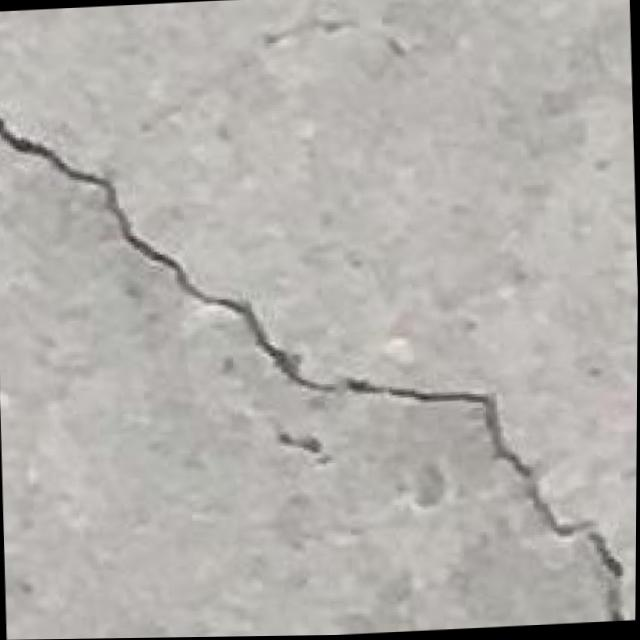Crack: (0, 92, 639, 625)
